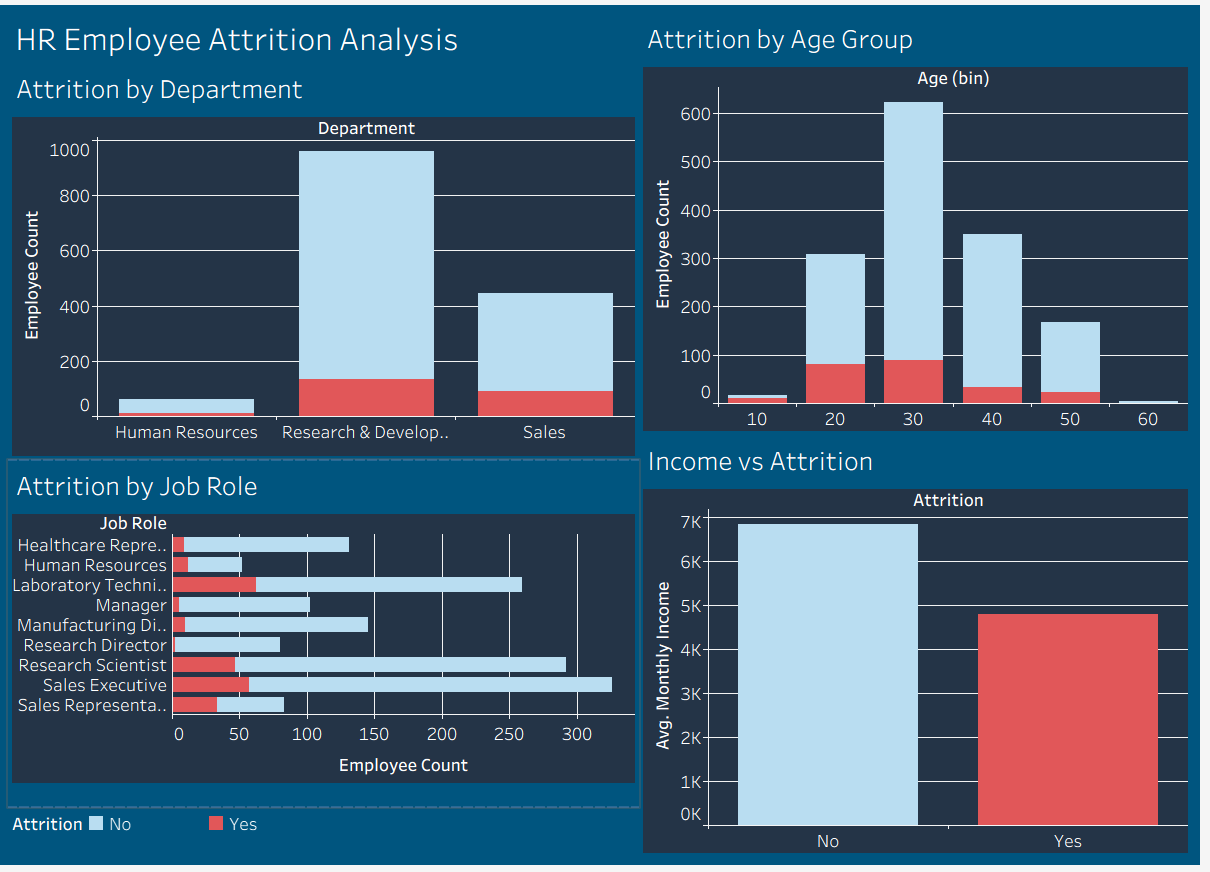

The page's visual inventory and layout, read from the dashboard file:
{"tool":"tableau","page":{"name":"HR Employee Attrition Analysis","canvas":[1000,1000],"units":"permille","ordinal":0},"visuals":[{"type":"title","box":[6.7,9.3,525.8,58.1]},{"type":"worksheet","title":"Attrition by Age Group","mark":"Automatic","rows":["EmployeeCount"],"cols":["Age (bin)"],"box":[532.5,9.3,460.8,490.7]},{"type":"worksheet","title":"Attrition by Department","mark":"Automatic","rows":["EmployeeCount"],"cols":["Department"],"box":[6.7,67.4,525.8,461.6]},{"type":"worksheet","title":"Income vs Attrition","mark":"Automatic","rows":["MonthlyIncome"],"cols":["Attrition"],"box":[532.5,500,460.8,490.7]},{"type":"worksheet","title":"Attrition by Job Role","mark":"Automatic","rows":["JobRole"],"cols":["EmployeeCount"],"box":[6.7,529.1,525.8,403.5]},{"type":"legend","title":"Attrition by Department","param":"[federated.0hb1tl31d2ditp135mbiw1tj1098].[none:Attrition:nk]","box":[6.7,932.6,525.8,58.1]}]}

Visuals, with their boxes on the dashboard's canvas, which has no fixed pixel size, in thousandths of its width and height (x1, y1, x2, y2). These are canvas units, not pixel positions in the 1210x872 screenshot, which may show the page scaled, cropped or inside an application window:
title: box=[7, 9, 532, 67]
"Attrition by Age Group" worksheet: box=[532, 9, 993, 500]
"Attrition by Department" worksheet: box=[7, 67, 532, 529]
"Income vs Attrition" worksheet: box=[532, 500, 993, 991]
"Attrition by Job Role" worksheet: box=[7, 529, 532, 933]
"Attrition by Department" legend: box=[7, 933, 532, 991]
